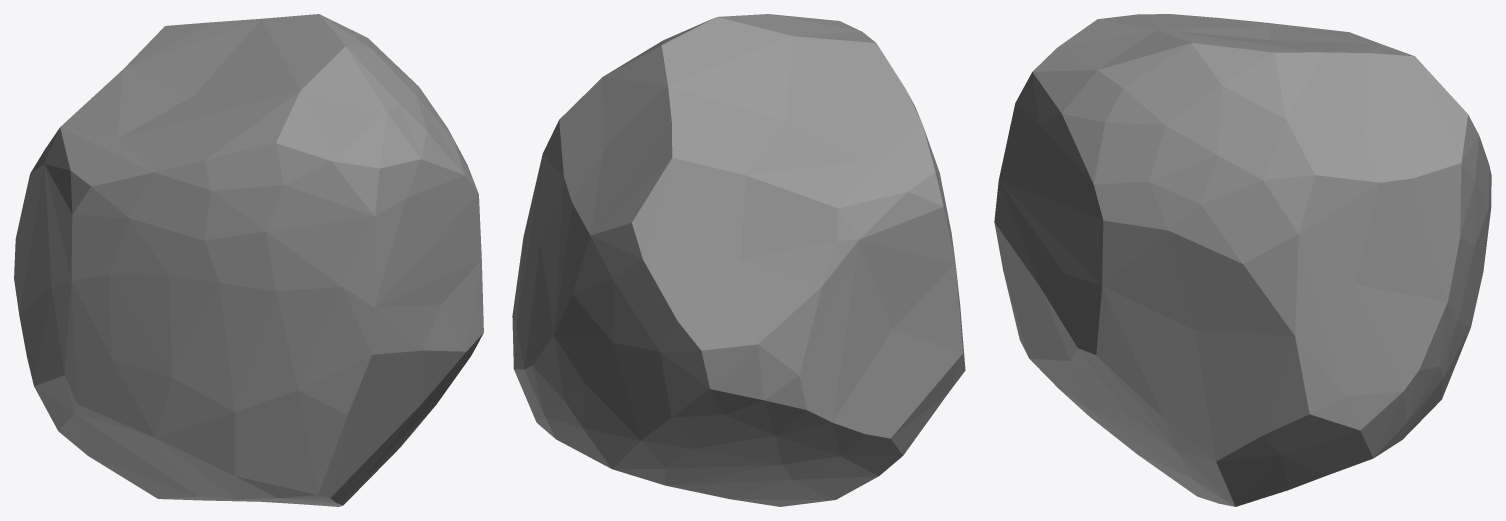
Rendered from roqui.obj.
3 views of the same model, side by side, from view 1: azimuth 30°, elevation 25°; view 2: azimuth 150°, elevation 25°; view 3: azimuth 270°, elevation 25° (orthographic). The views are drawn at different scales.
Parts seen in each view (by area): view 1: roca_Cube.051; view 2: roca_Cube.051; view 3: roca_Cube.051.
Boxes of the visible parts, bbox=[...] form: roca_Cube.051: bbox=[14, 14, 483, 506]; roca_Cube.051: bbox=[512, 14, 965, 506]; roca_Cube.051: bbox=[994, 14, 1491, 506].
Size of the model in its own units: 39.21 by 41.23 by 40.8.
1 material, 1 textured.
